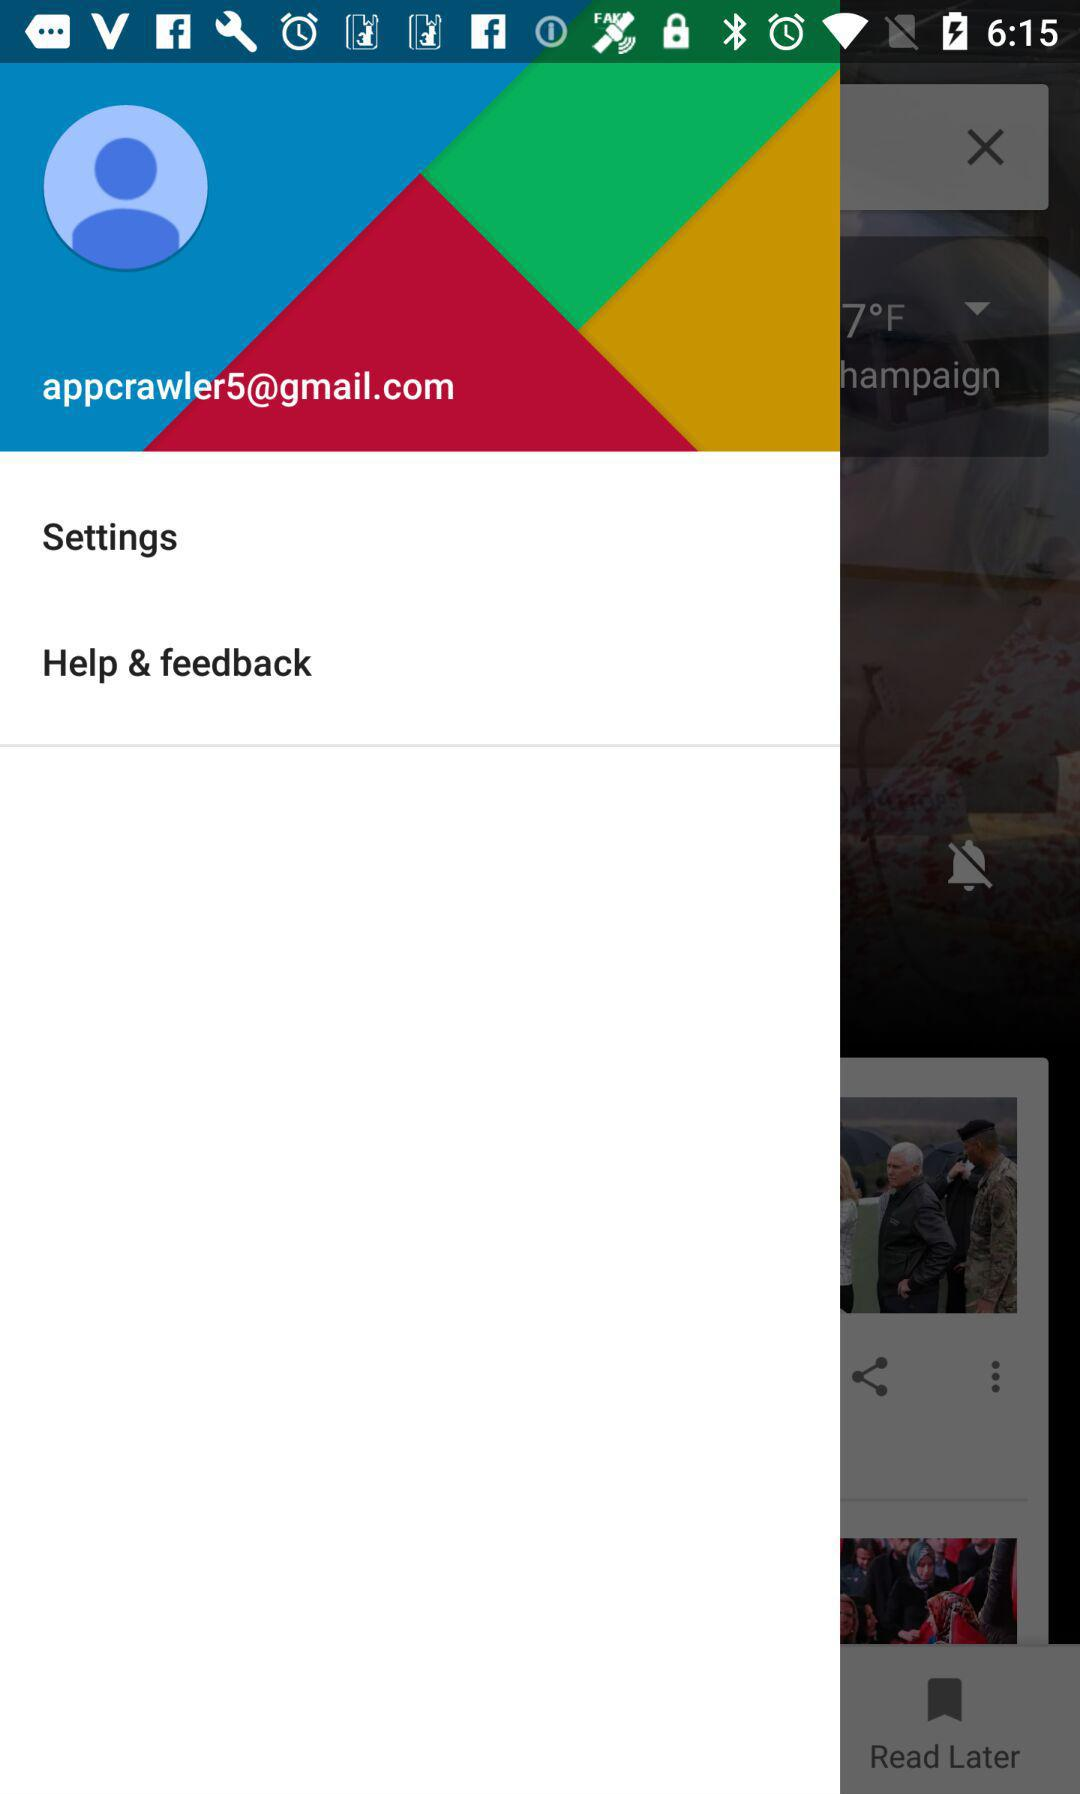Drawer: (1, 64, 840, 1793)
Icon: (44, 105, 209, 272)
Text: (44, 370, 455, 410), (44, 646, 313, 686), (44, 522, 179, 560)
UpperTaskBar: (1, 1, 1080, 64)
